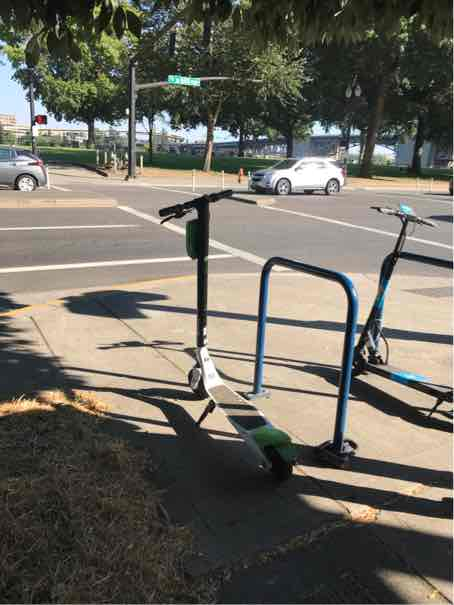scooter: (149, 184, 301, 484)
